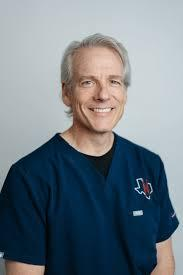person: (59, 26, 135, 141)
